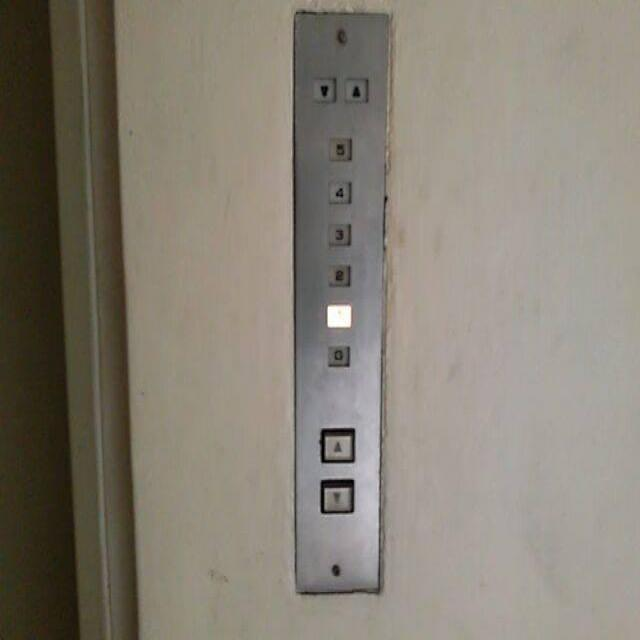2: (325, 261, 351, 288)
3: (326, 220, 353, 248)
4: (326, 178, 351, 206)
5: (327, 136, 351, 164)
G: (325, 342, 350, 367)
blur: (324, 302, 352, 330)
down: (317, 476, 356, 515), (311, 75, 336, 104)
up: (317, 425, 355, 464), (343, 75, 369, 105)
